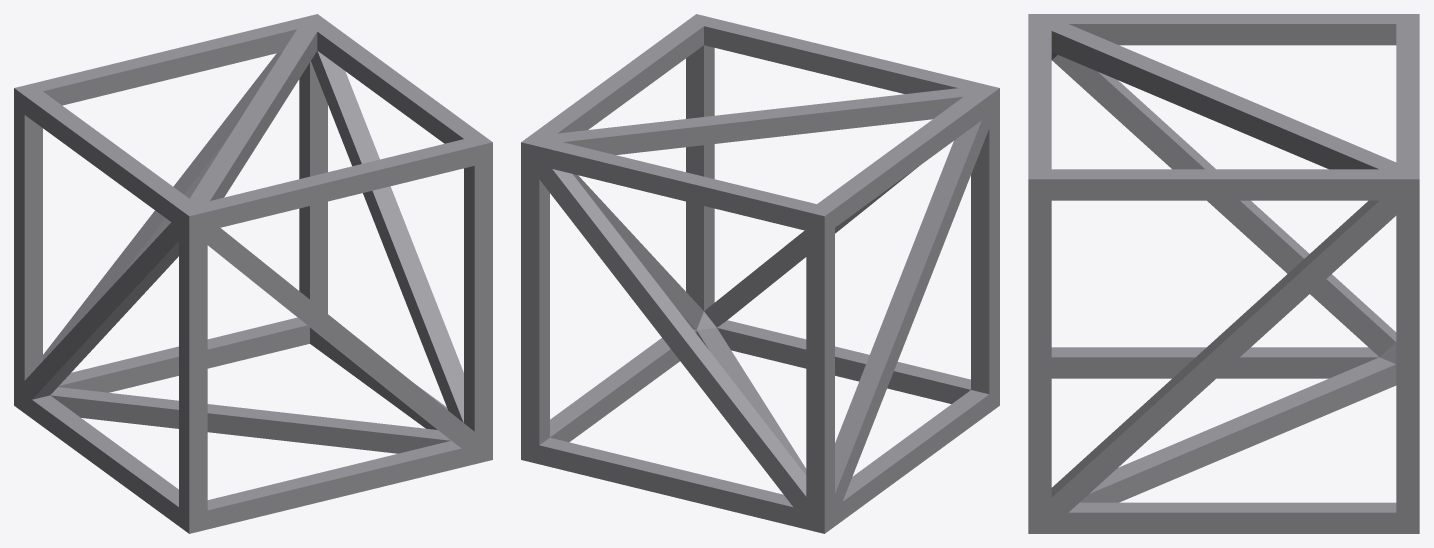
The model's file is model_frame.gltf.
3 renders of one model, left to right at view 1: azimuth 30°, elevation 25°; view 2: azimuth 150°, elevation 25°; view 3: azimuth 270°, elevation 25°, orthographic. The views are drawn at different scales.
Visible parts, largest first — view 1: model_frame; view 2: model_frame; view 3: model_frame.
Part boxes in pixels (box(x1,y1,x2,y2)): model_frame: box(14, 14, 492, 533); model_frame: box(521, 14, 999, 533); model_frame: box(1028, 14, 1419, 533).
Size of the model in its own units: 1 by 1 by 1.
Materials: 1 (1 with a texture image).
